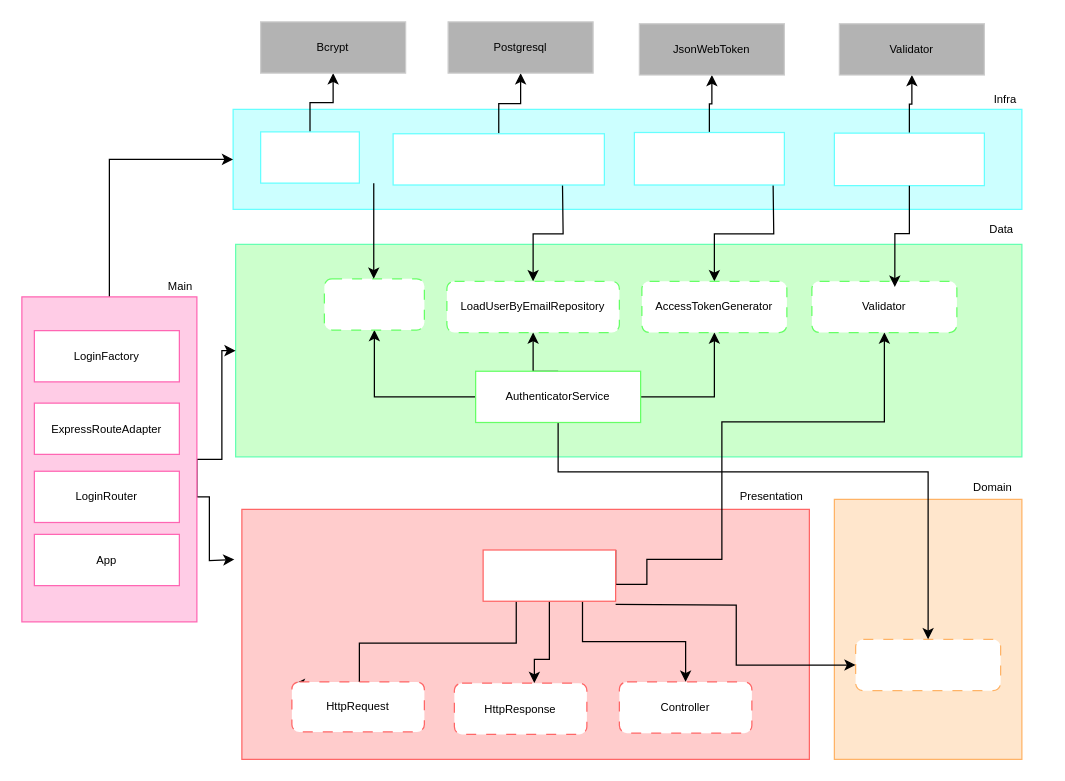
Some shapes in this 1065 by 781 pixel diagram are drawn without their labels. The shapes that lost their labels are listed below. From the top down, each one's box as (x1, y1, x2, y2) in pixels, then its label:
(259, 131, 359, 183): BcryptAdapter
(392, 132, 604, 185): LoadUserByEmailPostgresRepository
(633, 131, 784, 185): AccessTokenAdapter
(833, 132, 984, 186): EmailValidatorAdapter
(323, 278, 424, 330): Encrypter
(482, 549, 616, 601): LoginController
(854, 638, 1001, 691): Authenticator
